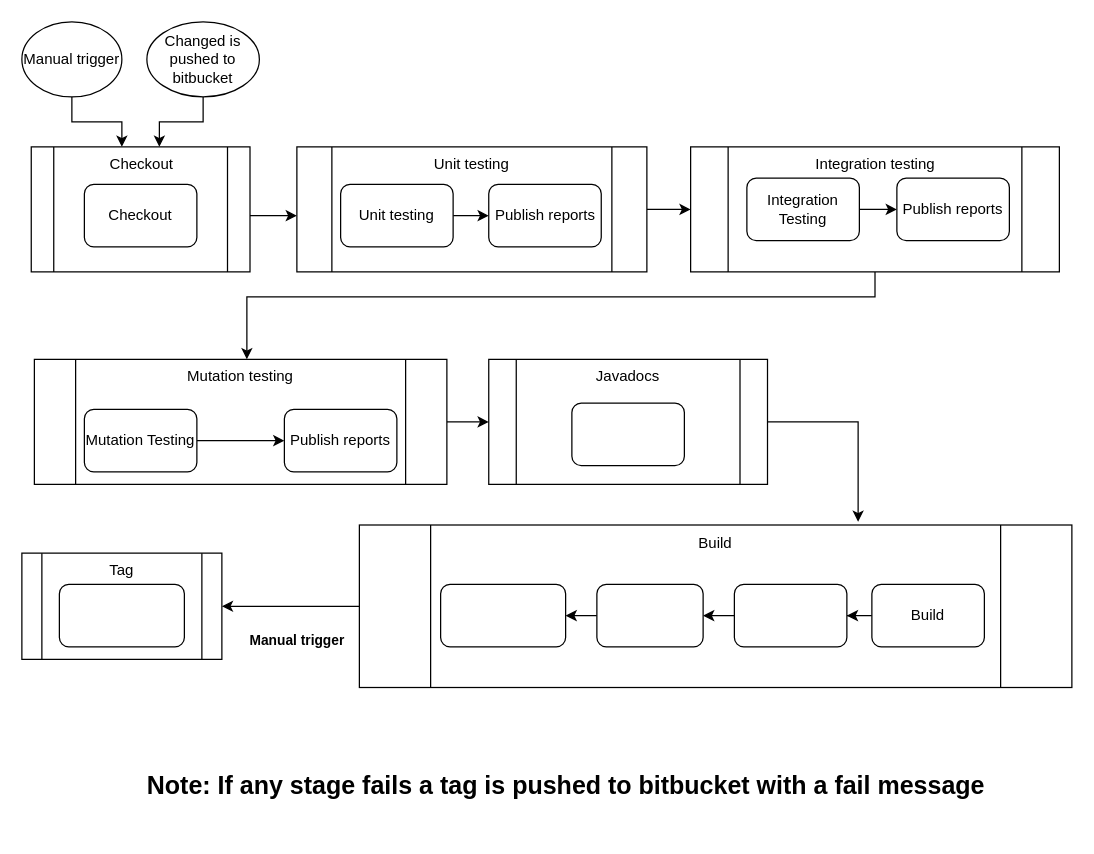
This 1094x854 diagram has some shape labels left out. The box of each missing label's shape, as (x1, y1, x2, y2) in pixels:
Deploy to tomcat server: (733, 583, 847, 647)
Generate and publish javadocs: (571, 402, 684, 466)
Send email for acceptance test: (439, 583, 566, 647)
Smoke test: (596, 583, 703, 647)
Tag success: (58, 583, 184, 647)
